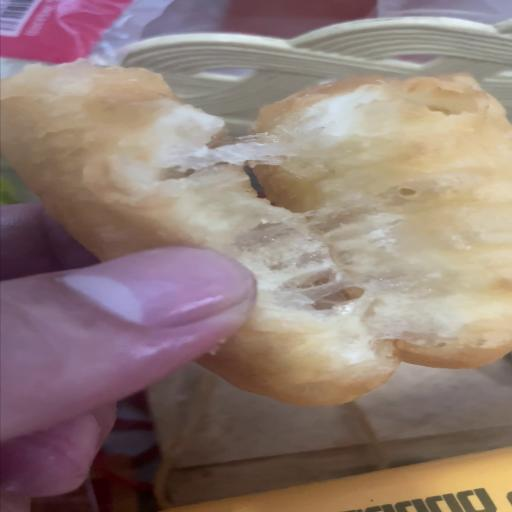street_golden_defect: (1, 71, 511, 396)
